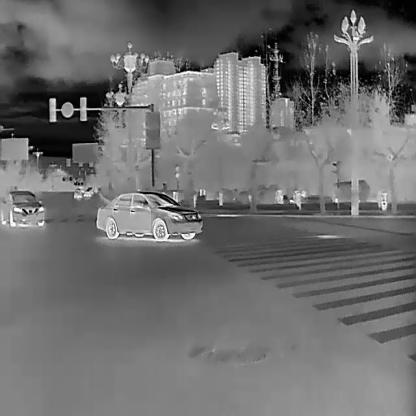car: (95, 190, 203, 240), (0, 190, 45, 228), (73, 188, 82, 200), (84, 188, 90, 197)
